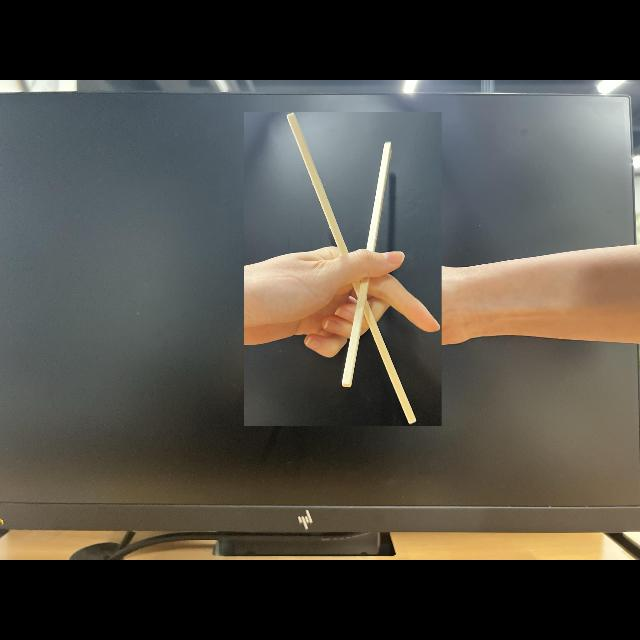stick: (244, 112, 441, 426)
